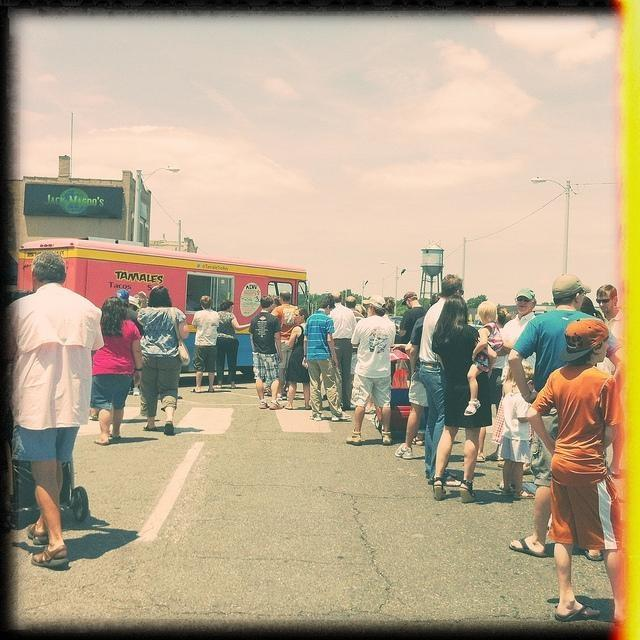bus: (17, 233, 309, 370)
